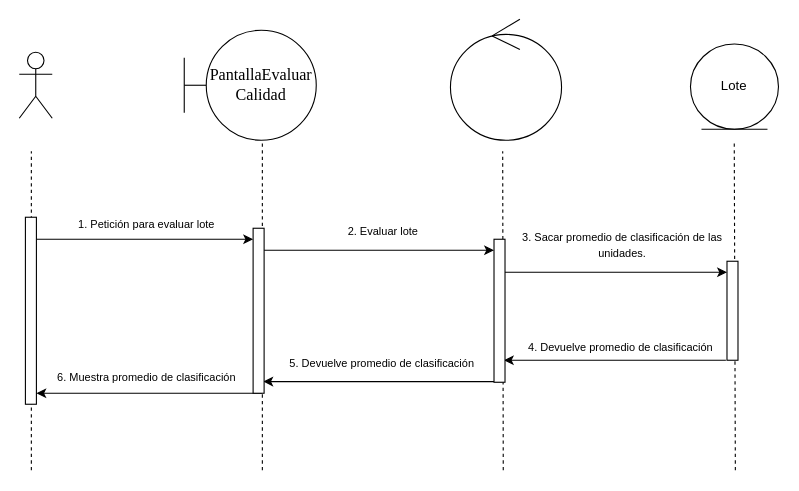
Some shapes in this 799 by 491 pixel diagram are drawn without their labels. Each missing label, with the box of its shape:
Actor: (18, 51, 52, 118)
ControlEvaluar Calidad: (449, 18, 562, 140)
